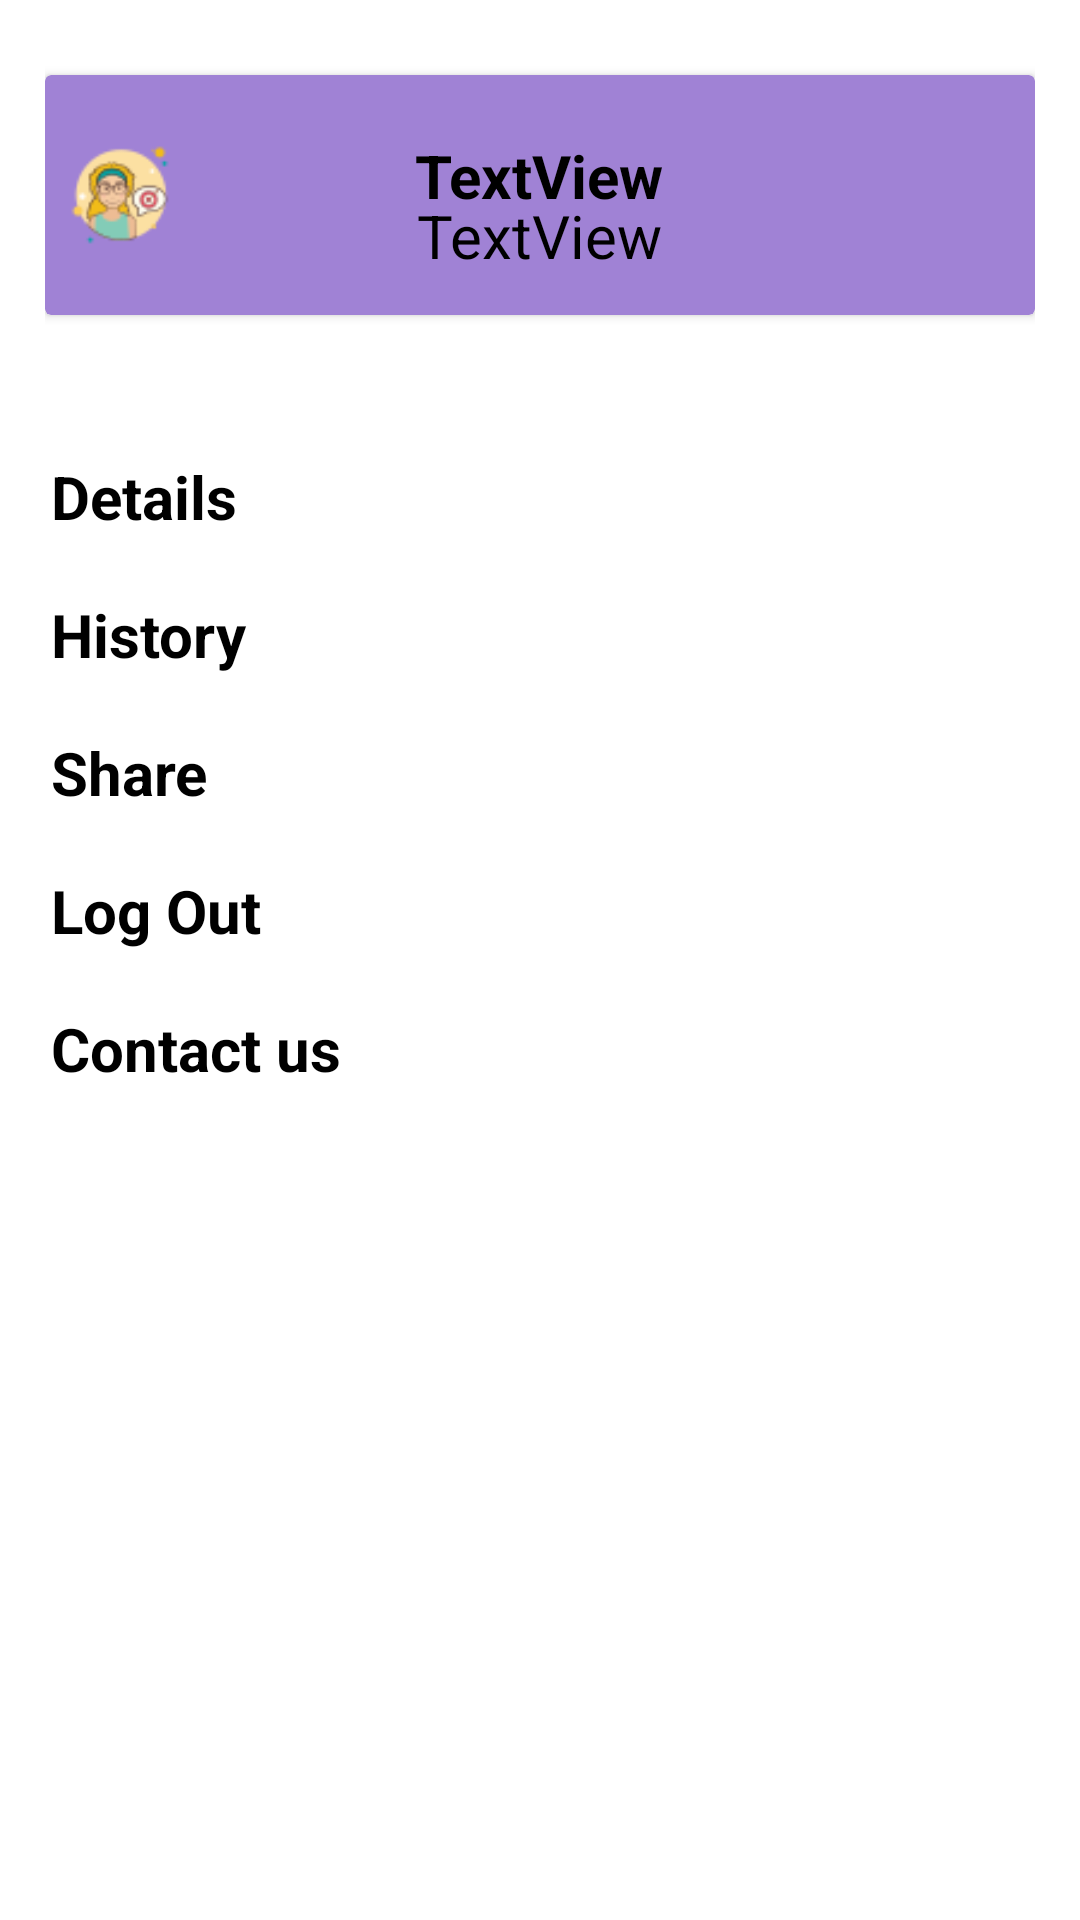

Icons on this 1080px x 1920px Android screen, each with its box as box(x1, y1, x2, y2):
character: box(72, 146, 168, 243)
